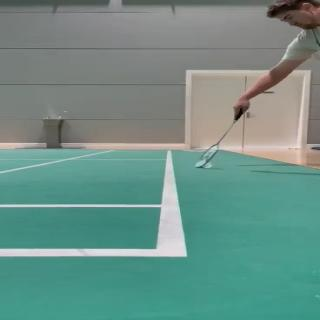Shuttle: (200, 162, 212, 168)
